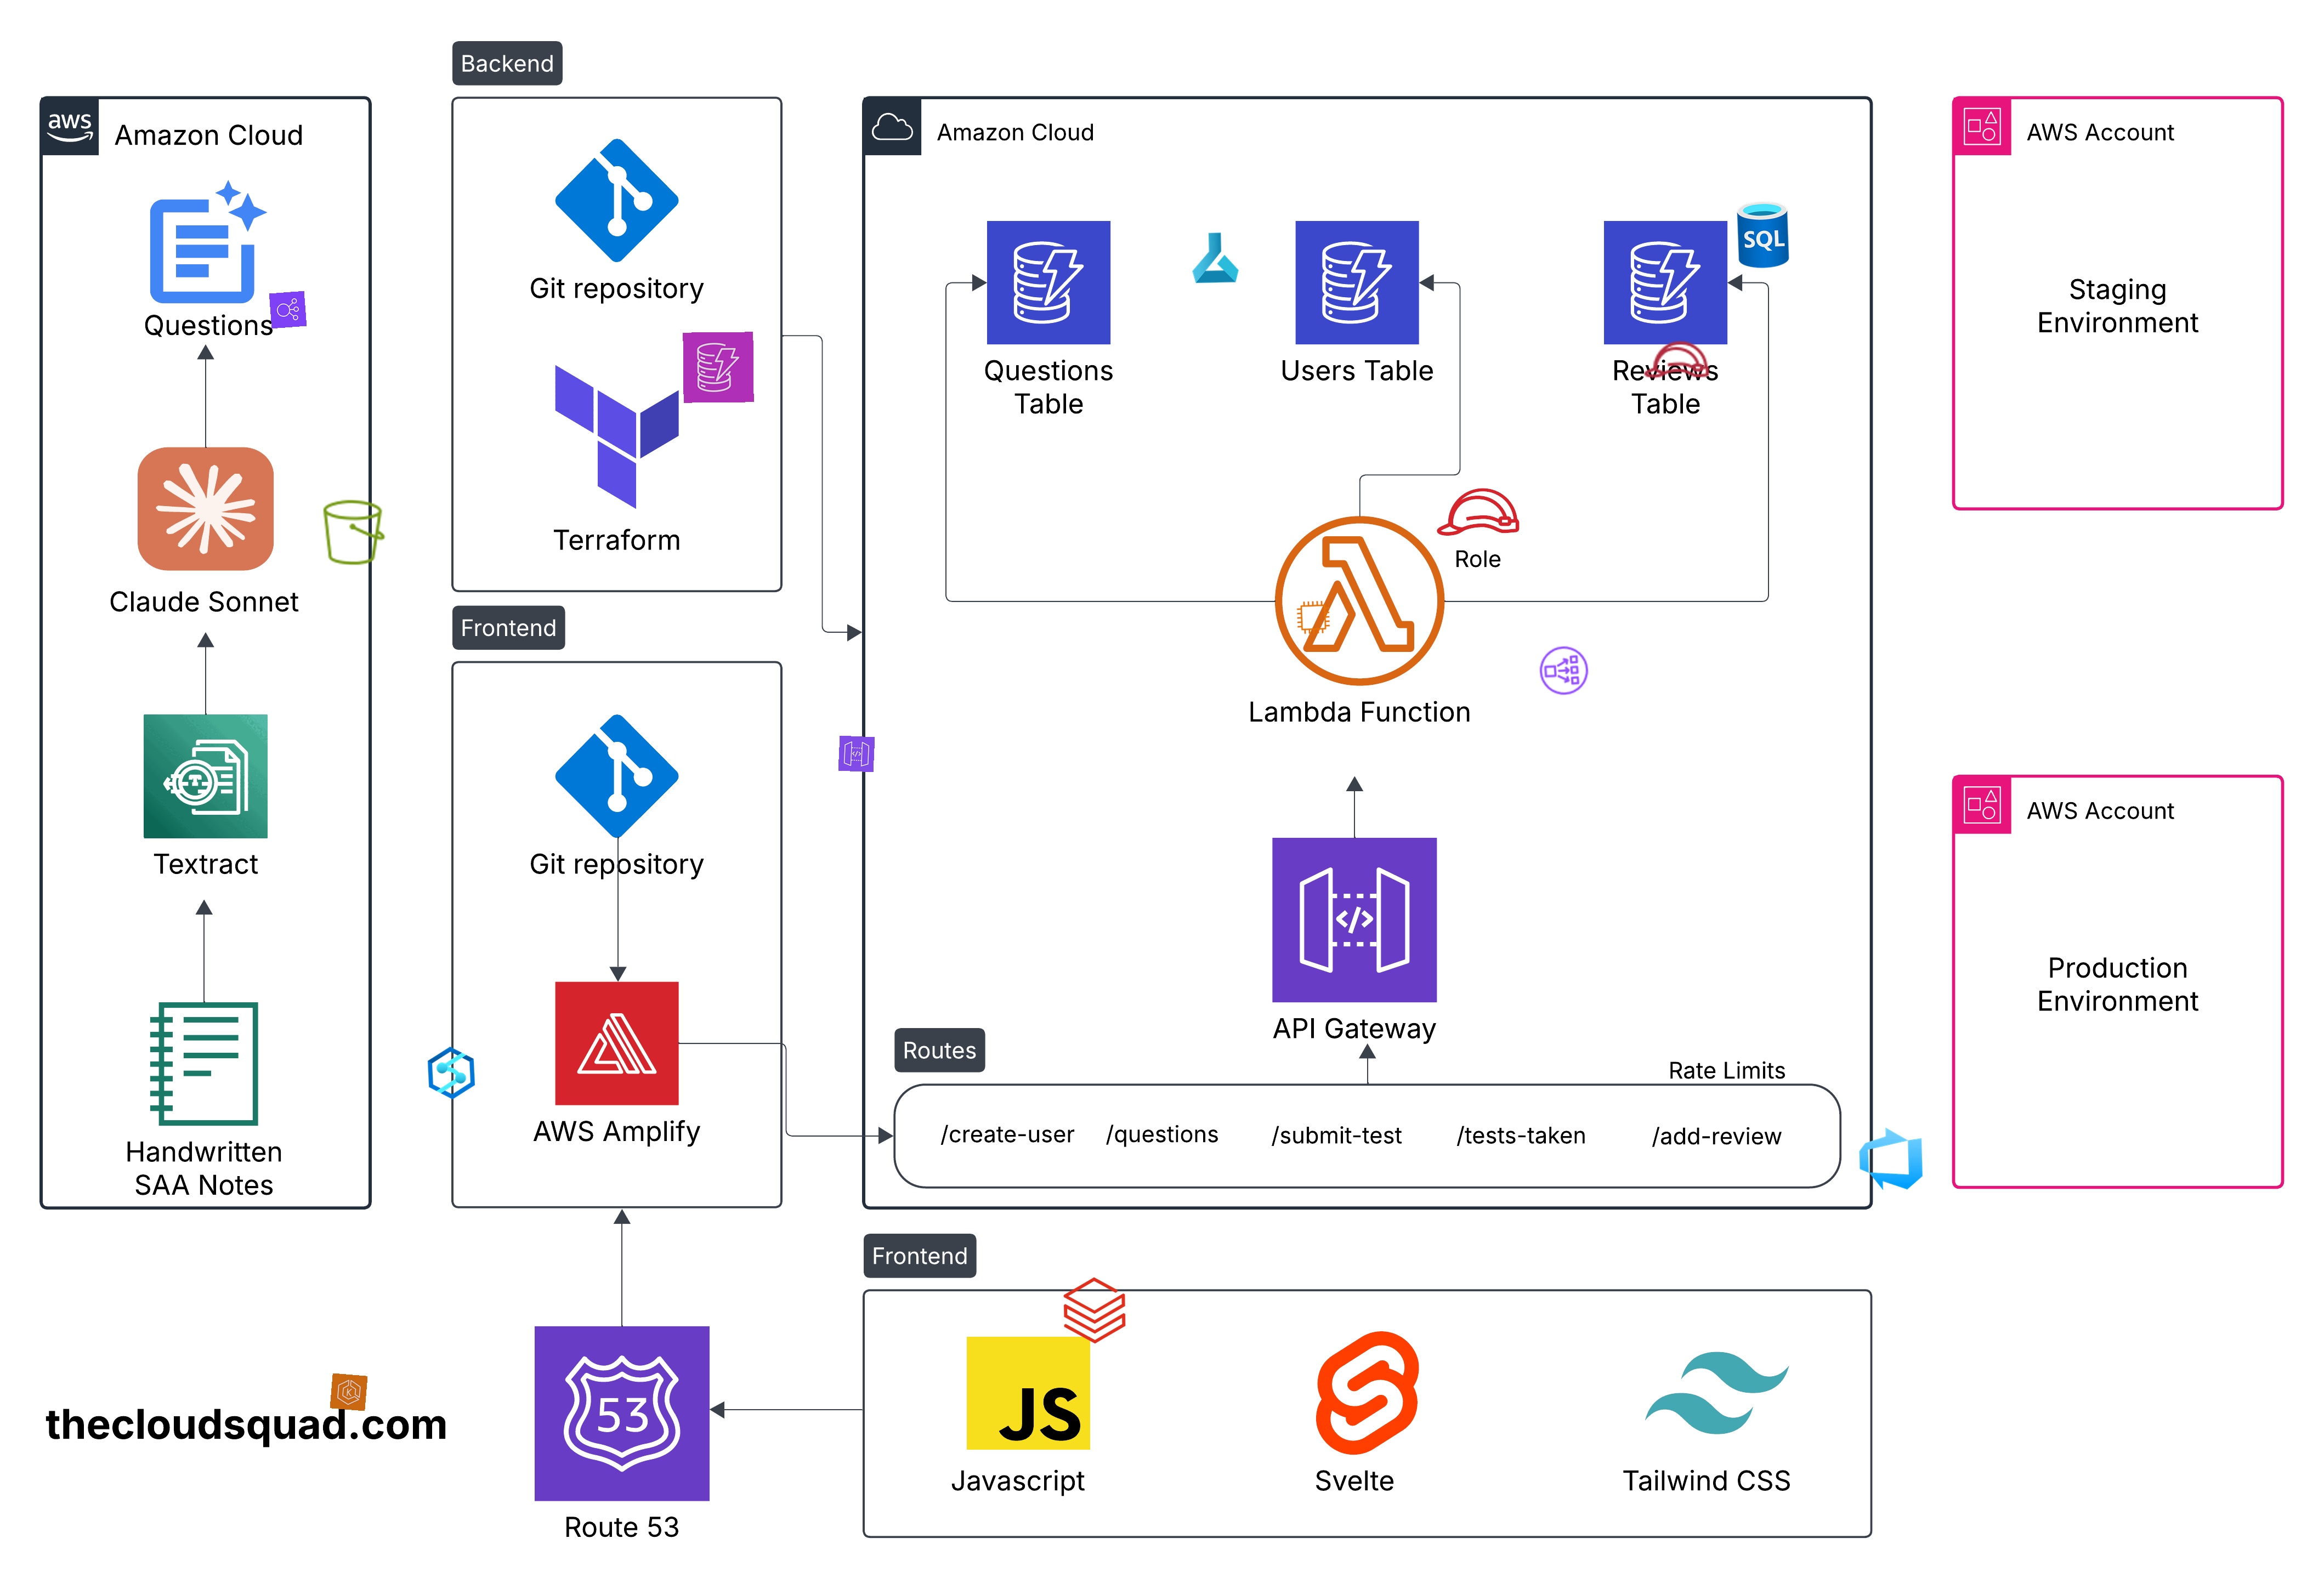aws_amazon_api_gateway: (838, 734, 875, 773)
aws_amazon_dynamodb: (683, 331, 754, 403)
aws_amazon_elastic_kubernetes_service: (329, 1374, 368, 1411)
aws_ec2_instance: (1294, 599, 1333, 636)
aws_elastic_load_balancing: (269, 291, 306, 329)
aws_elastic_load_balancing_network_load_balancer: (1535, 643, 1592, 699)
aws_identity_access_management_role: (1641, 324, 1713, 396)
aws_simple_storage_service_s3_standard: (317, 497, 389, 569)
azure_databricks: (1058, 1275, 1130, 1346)
azure_devops: (1854, 1122, 1926, 1194)
azure_machine_learning: (1188, 231, 1243, 285)
azure_sql_database: (1727, 197, 1799, 271)
azure_synapse_analytics: (423, 1044, 479, 1101)
